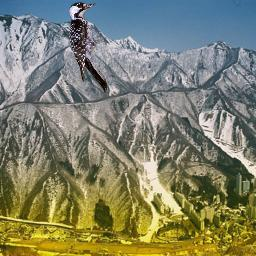Woodpecker: (68, 2, 107, 93)
